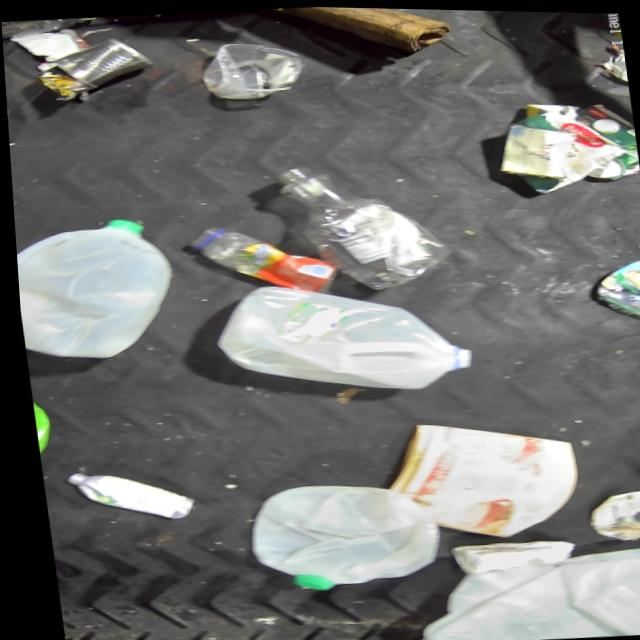can: (46, 34, 154, 93), (576, 482, 640, 539), (580, 138, 639, 180)
milk_jug: (203, 268, 473, 403), (11, 211, 183, 367), (391, 535, 640, 640), (232, 473, 441, 598)
plastic_bottle: (269, 154, 452, 295), (1, 15, 102, 50)
